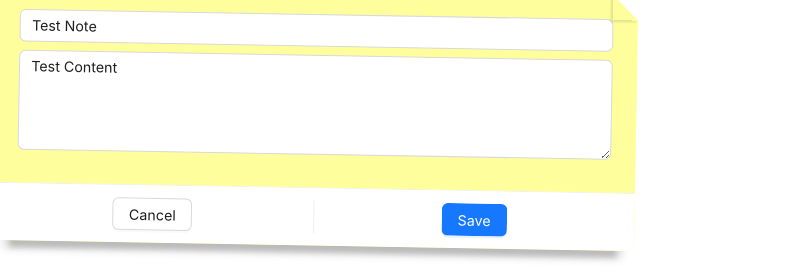
Test: UnsavedNote › shows error message on save failure
Click the button "Save": [474, 220] box [441,203,507,237]
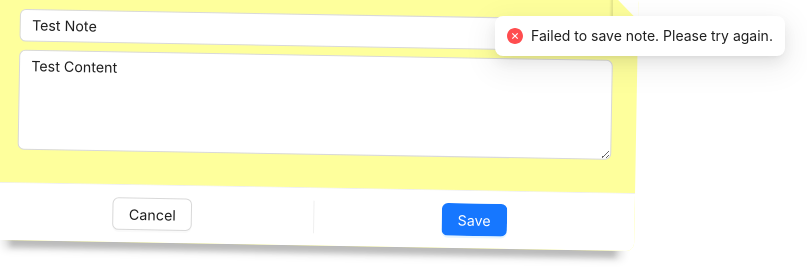
Check: the text "Failed to save note. Please try again." is shown, box [531,25,773,47]
